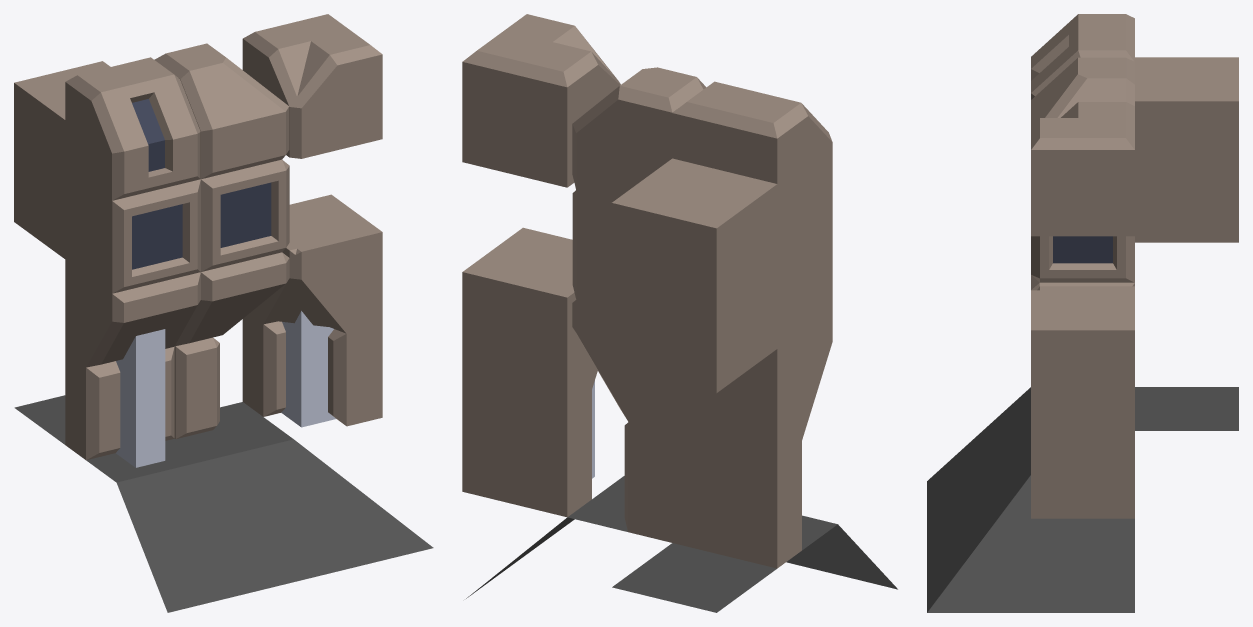
Rendered from futuristic_v2.fbx.
The picture shows the model from 3 angles, left to right: view 1: azimuth 30°, elevation 25°; view 2: azimuth 150°, elevation 25°; view 3: azimuth 270°, elevation 25°; orthographic projection. The views are drawn at different scales.
Visible parts, largest first — view 1: b2_bc1, b2_tw, b2_bw1, b2_tci, b2_bci2, b2_mw, b2_bci3, b2_bw3, b2_bw2, b2_tc, b2_mc, b2_bc3 (+4 smaller); view 2: b2_tci, b2_mi, b2_bci3, b2_r, b2_bci2, b2_tw, b2_bw2, b2_bw3, b2_tc, b2_f, b2_mw, b2_bc2 (+4 smaller); view 3: b2_bc1, b2_bci3, b2_tci, b2_bci2, b2_mi, b2_r, b2_mc, b2_bw1, b2_tw, b2_f, b2_tc, b2_bc3.
Part boxes in pixels (box(x1,y1,x2,y2)): b2_bc1: box(176, 402, 433, 591); b2_tw: box(65, 57, 200, 200); b2_bw1: box(86, 438, 255, 612); b2_tci: box(242, 14, 382, 158); b2_bci2: box(242, 314, 382, 427); b2_mw: box(65, 167, 200, 293); b2_bci3: box(249, 194, 382, 334); b2_bw3: box(65, 260, 200, 374); b2_bw2: box(65, 346, 174, 467); b2_tc: box(154, 43, 289, 179); b2_mc: box(201, 159, 289, 271); b2_bc3: box(175, 252, 289, 345); b2_tci: box(462, 14, 620, 187); b2_mi: box(611, 239, 777, 393); b2_bci3: box(462, 227, 597, 407); b2_r: box(611, 158, 777, 283); b2_bci2: box(462, 381, 594, 517); b2_tw: box(672, 81, 832, 238); b2_bw2: box(672, 433, 801, 568); b2_bw3: box(672, 308, 832, 458); b2_tc: box(572, 67, 706, 199); b2_f: box(612, 543, 776, 612); b2_mw: box(777, 199, 832, 348); b2_bc2: box(624, 422, 672, 542); b2_bc1: box(927, 431, 1134, 612); b2_bci3: box(1031, 286, 1134, 424); b2_tci: box(1031, 102, 1134, 236); b2_bci2: box(1031, 424, 1134, 518); b2_mi: box(1135, 148, 1238, 242); b2_r: box(1135, 57, 1238, 148); b2_mc: box(1031, 236, 1134, 282); b2_bw1: box(927, 387, 1030, 524); b2_tw: box(1031, 14, 1134, 99); b2_f: box(1135, 387, 1238, 430); b2_tc: box(1031, 57, 1134, 127); b2_bc3: box(1031, 275, 1134, 290).
Size of the model in its own units: 300 by 500 by 300.
